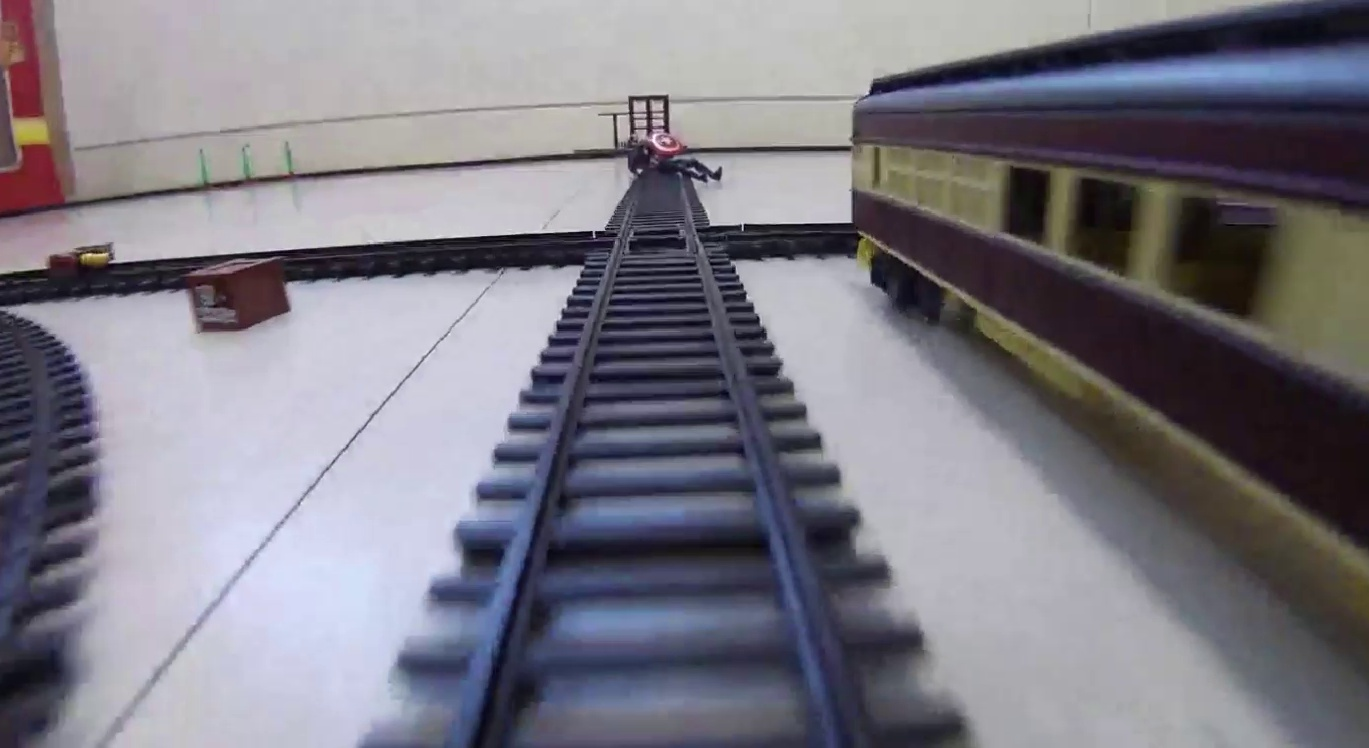box: (187, 259, 284, 326)
people: (618, 132, 724, 184)
